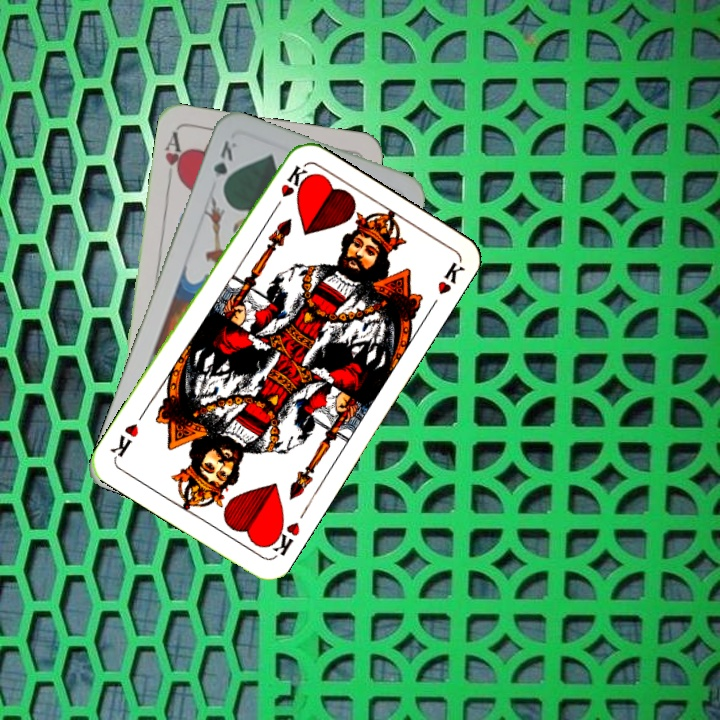GK: (209, 136, 240, 194)
HA: (160, 128, 187, 187)
HK: (268, 161, 310, 215), (262, 515, 303, 559)
